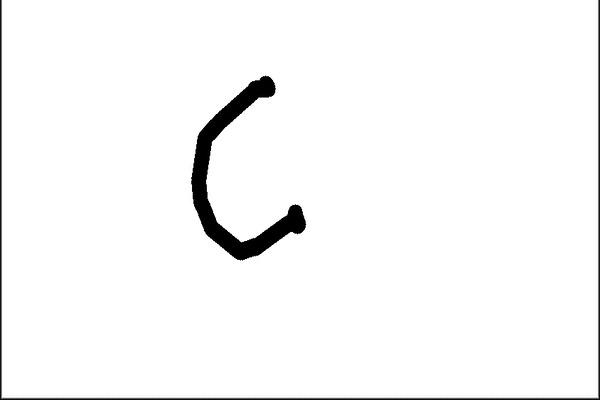C: (187, 67, 311, 263)
